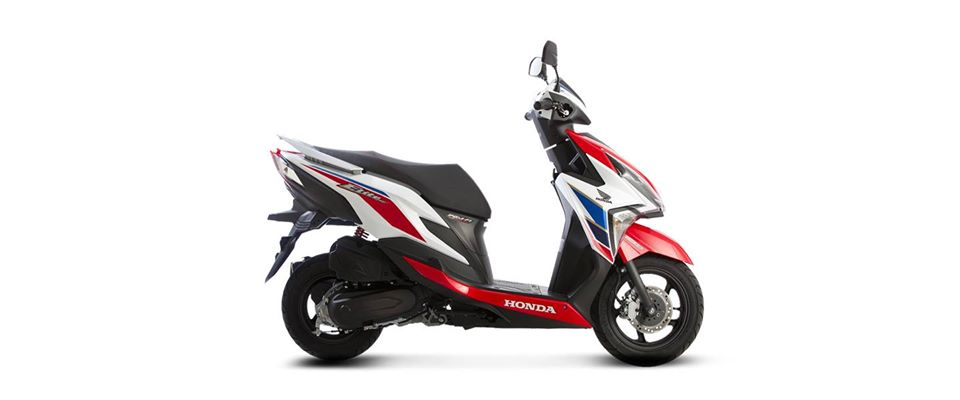moto: (245, 31, 706, 364)
